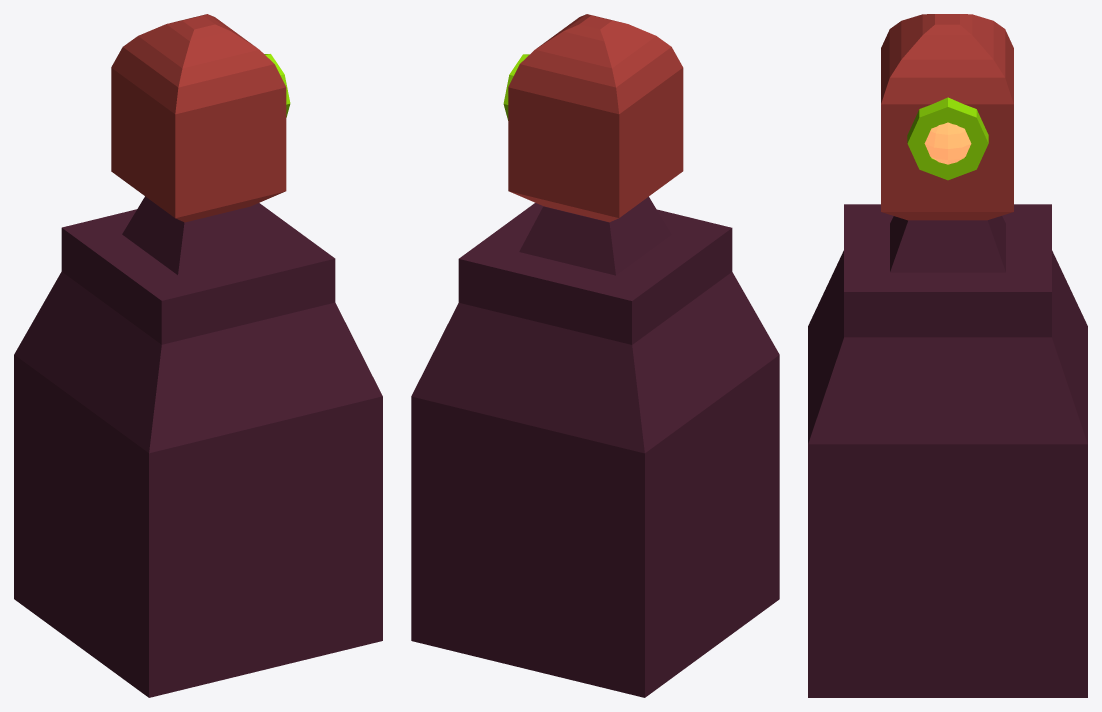
The model's file is Busto.fbx.
3 renders of one model, left to right at view 1: azimuth 30°, elevation 25°; view 2: azimuth 150°, elevation 25°; view 3: azimuth 270°, elevation 25°, orthographic. The views are drawn at different scales.
Parts seen in each view (by area): view 1: Cube, Cube.001; view 2: Cube, Cube.001; view 3: Cube, Cube.001, Cylinder, Sphere.
Part boxes in pixels (x1,y1,x2,y2): Cube: [14, 196, 382, 697]; Cube.001: [111, 14, 286, 222]; Cube: [411, 196, 779, 697]; Cube.001: [508, 14, 683, 222]; Cube: [808, 204, 1087, 697]; Cube.001: [881, 14, 1013, 220]; Cylinder: [907, 97, 988, 180]; Sphere: [924, 122, 971, 164].
Bounding box in the file's own units: 200 × 489 × 200.
